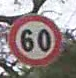limite 60: (7, 13, 62, 67)
